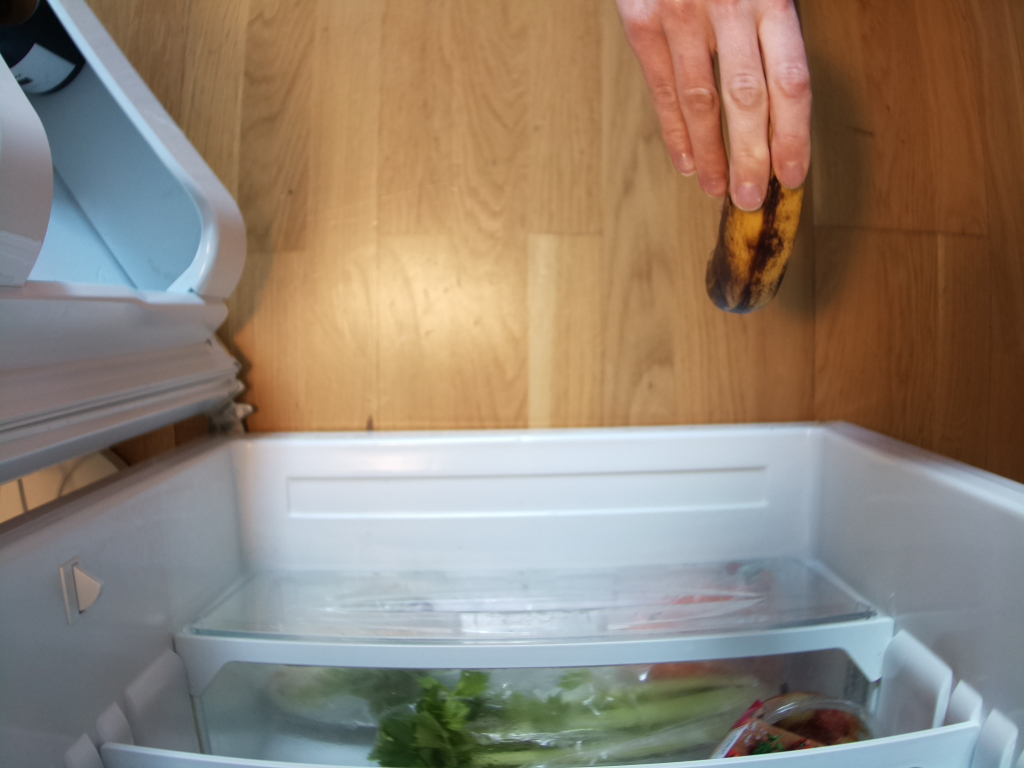banana-overripe: (705, 177, 803, 317)
